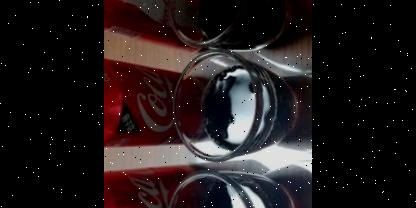Can: (104, 57, 206, 147), (104, 0, 206, 53), (104, 163, 202, 208)
